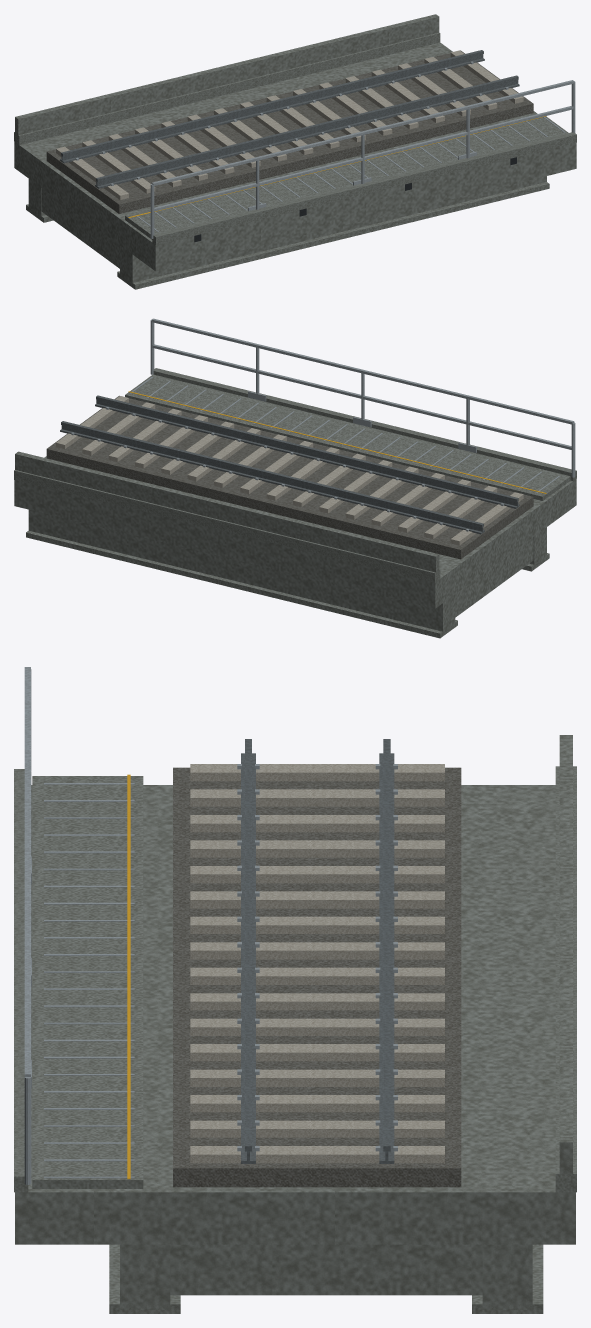
File: PZ_02_RailDeck_10m_Aged.glb
3 views of the same model, one above another, from view 1: azimuth 30°, elevation 25°; view 2: azimuth 150°, elevation 25°; view 3: azimuth 270°, elevation 25° (orthographic). The views are drawn at different scales.
Visible parts, largest first — view 1: STR_DeckSlab, TRACK_BallastBedding, WALK_ServiceSlab, SAFETY_FarSideParapet, STR_RightWalkCurb, STR_LeftEdgeCurbstone, STR_GirderFoot_Near, STR_PrimaryGirder_Near, TRACK_RailHead_R, TRACK_RailHead_L, TRACK_RailWeb_R, TRACK_RailWeb_L (+23 smaller); view 2: TRACK_BallastBedding, STR_DeckSlab, WALK_ServiceSlab, STR_PrimaryGirder_Far, SAFETY_FarSideParapet, STR_LeftEdgeCurbstone, STR_GirderFoot_Far, STR_RightWalkCurb, TRACK_RailHead_L, TRACK_RailHead_R, TRACK_RailWeb_R, TRACK_RailWeb_L (+23 smaller); view 3: STR_DeckSlab, TRACK_BallastBedding, WALK_ServiceSlab, STR_CrossDiaphragm_01, SAFETY_FarSideParapet, STR_RightWalkCurb, STR_LeftEdgeCurbstone, TRACK_RailBase_L, TRACK_Sleeper_00, TRACK_Sleeper_01, TRACK_Sleeper_02, TRACK_Sleeper_03 (+22 smaller).
Part boxes in pixels (x1,y1,x2,y2): STR_DeckSlab: (14, 42, 576, 271); TRACK_BallastBedding: (46, 50, 533, 213); WALK_ServiceSlab: (125, 116, 568, 239); SAFETY_FarSideParapet: (15, 14, 439, 136); STR_RightWalkCurb: (152, 132, 576, 244); STR_LeftEdgeCurbstone: (14, 32, 440, 144); STR_GirderFoot_Near: (117, 182, 549, 289); STR_PrimaryGirder_Near: (120, 176, 546, 284); TRACK_RailHead_R: (96, 75, 518, 181); TRACK_RailHead_L: (61, 50, 483, 156); TRACK_RailWeb_R: (96, 79, 518, 186); TRACK_RailWeb_L: (61, 54, 483, 160); TRACK_BallastBedding: (46, 395, 533, 559); STR_DeckSlab: (14, 456, 576, 608); WALK_ServiceSlab: (125, 374, 570, 500); STR_PrimaryGirder_Far: (28, 509, 455, 633); SAFETY_FarSideParapet: (15, 451, 439, 574); STR_LeftEdgeCurbstone: (14, 470, 440, 582); STR_GirderFoot_Far: (26, 530, 457, 638); STR_RightWalkCurb: (153, 368, 576, 481); TRACK_RailHead_L: (61, 421, 483, 527); TRACK_RailHead_R: (96, 395, 518, 501); TRACK_RailWeb_R: (96, 399, 518, 506); TRACK_RailWeb_L: (61, 425, 483, 531); STR_DeckSlab: (15, 785, 575, 1244); TRACK_BallastBedding: (173, 767, 461, 1187); WALK_ServiceSlab: (32, 776, 143, 1188); STR_CrossDiaphragm_01: (170, 1244, 482, 1295); SAFETY_FarSideParapet: (559, 735, 572, 1175); STR_RightWalkCurb: (14, 769, 28, 1192); STR_LeftEdgeCurbstone: (555, 766, 576, 1192); TRACK_RailBase_L: (379, 753, 394, 1163); TRACK_Sleeper_00: (190, 764, 444, 781); TRACK_Sleeper_01: (190, 789, 444, 806); TRACK_Sleeper_02: (190, 815, 444, 832); TRACK_Sleeper_03: (190, 840, 444, 857).
Size of the model in its own units: 10.07 by 2.78 by 5.84.
8 materials, 8 textured.
